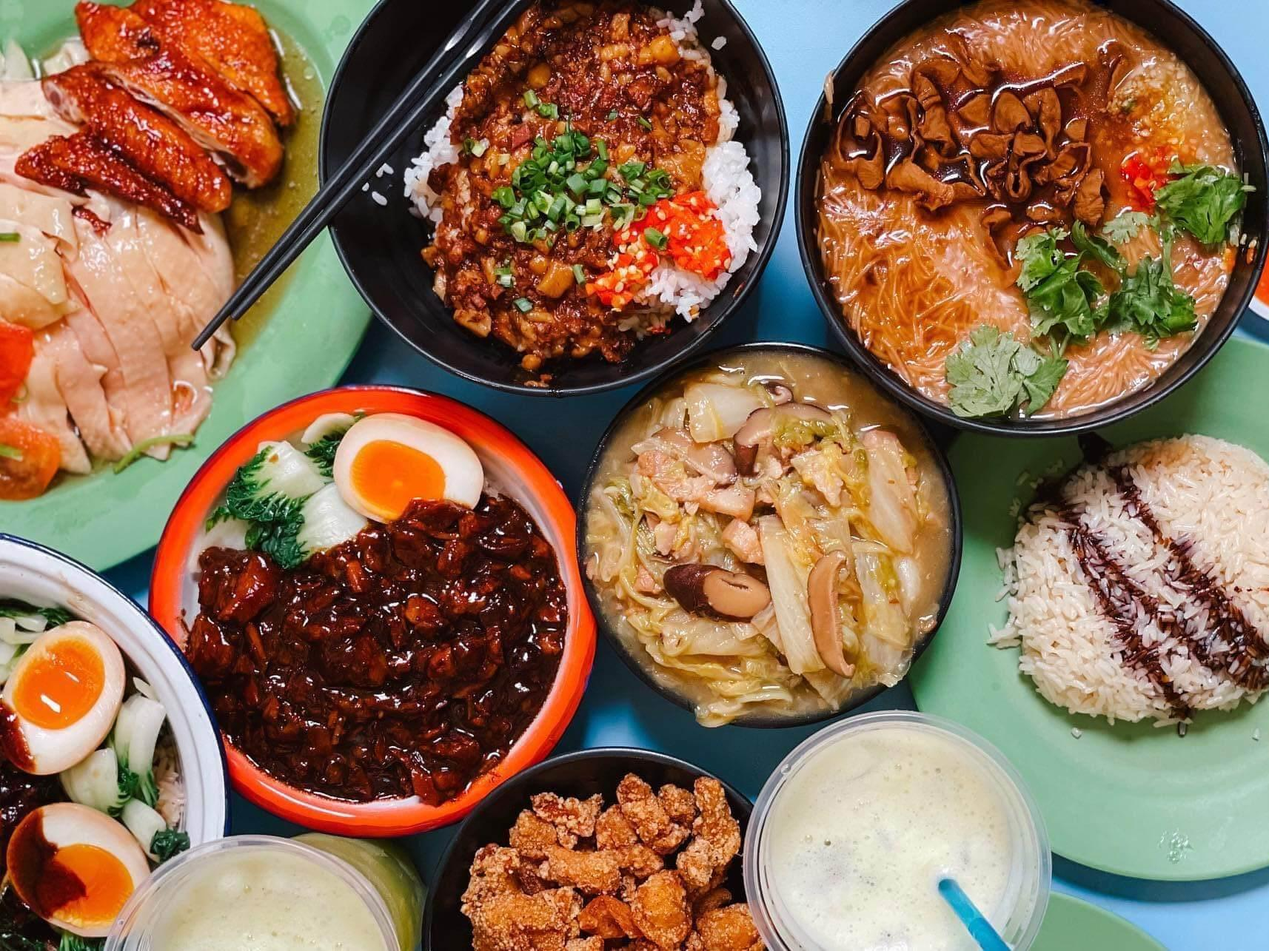Braised Crucian Carp: (0, 5, 382, 554), (796, 7, 1262, 441), (147, 386, 584, 818), (318, 4, 791, 402), (905, 360, 1267, 878), (583, 346, 897, 725), (0, 538, 230, 937), (423, 746, 731, 951)
